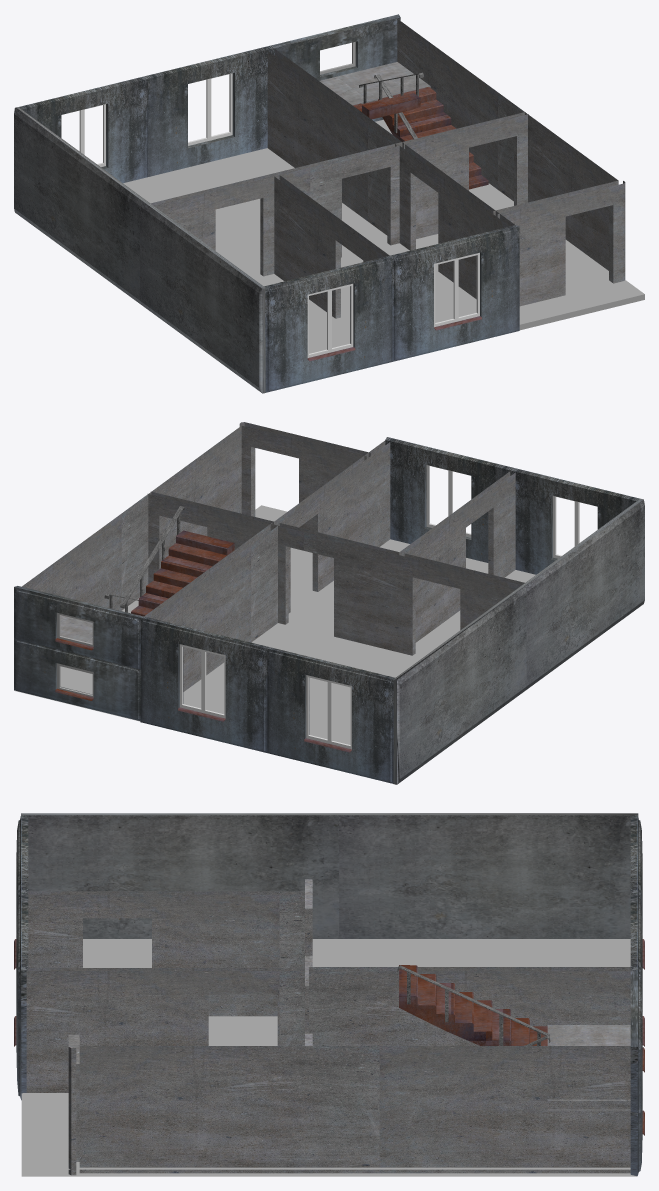
Rendered from floor1-s0.gltf.
3 views of the same model, one above another, from view 1: azimuth 30°, elevation 25°; view 2: azimuth 150°, elevation 25°; view 3: azimuth 270°, elevation 25° (orthographic). The views are drawn at different scales.
Parts seen in each view (by area): view 1: Plane104.001, Box407.001, Box318.001, Plane112.001, Box349.001, Box348.001, Plane008.002, Plane008.001, Plane008.004, Box351.001; view 2: Plane104.001, Box407.001, Box318.001, Plane112.001, Box349.001, Plane008.003, Plane008.004, Box351.001, Box408.001, Box348.001, Plane008.001, Plane008.002; view 3: Plane104.001, Box318.001, Plane112.001, Box407.001, Box349.001, Box348.001, Box351.001.
Part boxes in pixels (x1,y1,x2,y2): Plane104.001: (151, 19, 625, 318); Box407.001: (19, 14, 519, 392); Box318.001: (14, 107, 265, 393); Plane112.001: (123, 119, 644, 353); Box349.001: (353, 87, 488, 189); Box348.001: (319, 62, 430, 105); Plane008.002: (434, 252, 479, 327); Plane008.001: (307, 283, 353, 357); Plane008.004: (188, 73, 232, 145); Box351.001: (359, 72, 423, 138); Plane104.001: (22, 422, 524, 691); Box407.001: (14, 437, 639, 783); Box318.001: (393, 498, 644, 784); Plane112.001: (15, 505, 535, 744); Box349.001: (131, 530, 234, 616); Plane008.003: (306, 675, 351, 749); Plane008.004: (180, 644, 225, 718); Box351.001: (104, 506, 185, 612); Box408.001: (55, 638, 351, 752); Box348.001: (60, 615, 92, 643); Plane008.001: (553, 496, 587, 558); Plane008.002: (426, 465, 471, 537); Plane104.001: (26, 879, 630, 1175); Box318.001: (21, 813, 638, 938); Plane112.001: (21, 939, 636, 1176); Box407.001: (16, 815, 642, 1176); Box349.001: (399, 965, 547, 1045); Box348.001: (547, 1025, 630, 1110); Box351.001: (397, 965, 550, 1045).
Size of the model in its own units: 10.02 by 3.31 by 11.38.
Materials: 8 (6 with a texture image).
